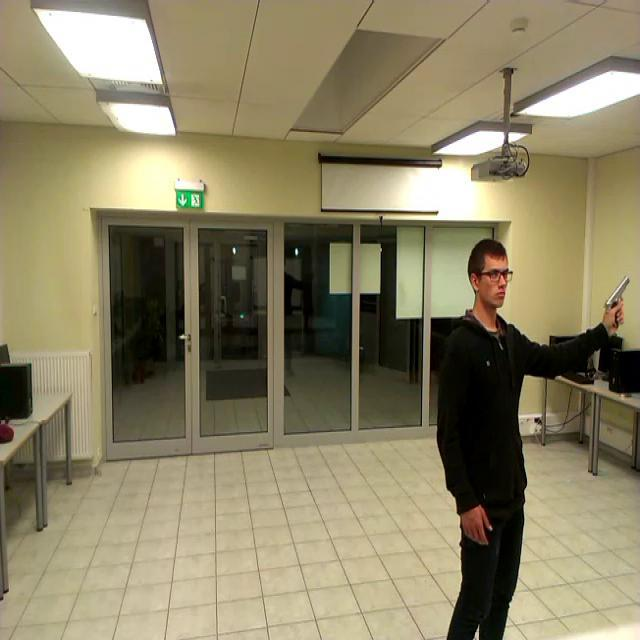Gun: (604, 275, 632, 327)
